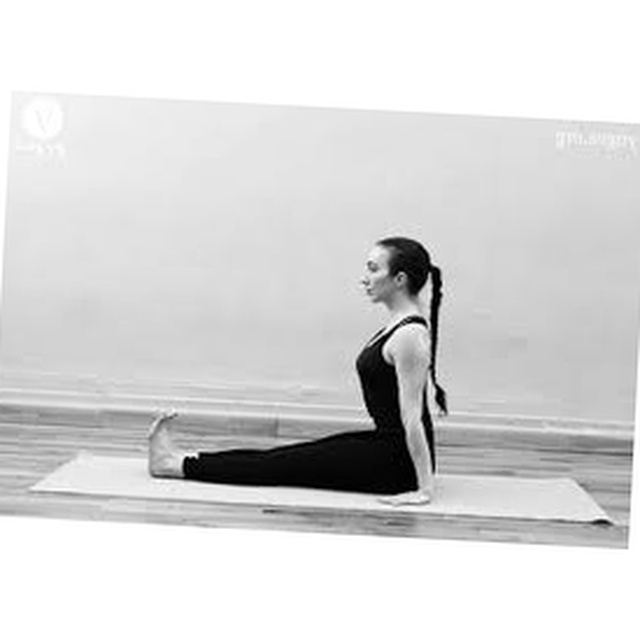Staff_Pose: (148, 236, 451, 508)
